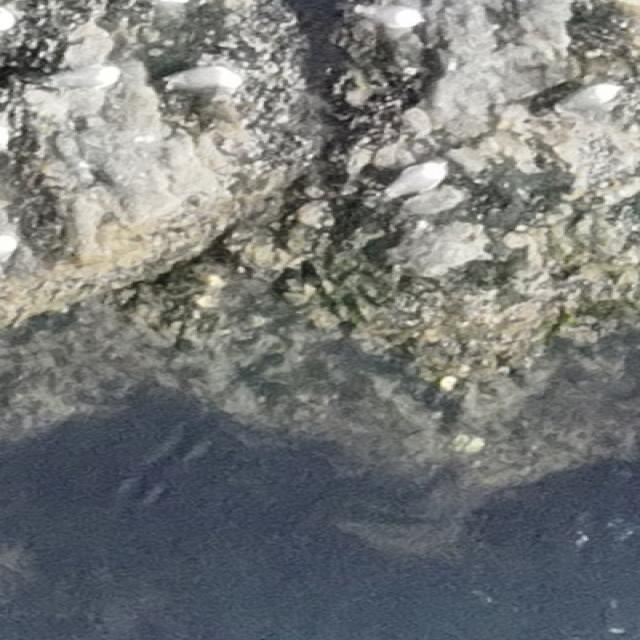umineko: (383, 164, 443, 200), (558, 85, 620, 112), (170, 67, 243, 89), (54, 66, 118, 89), (354, 6, 420, 24)
